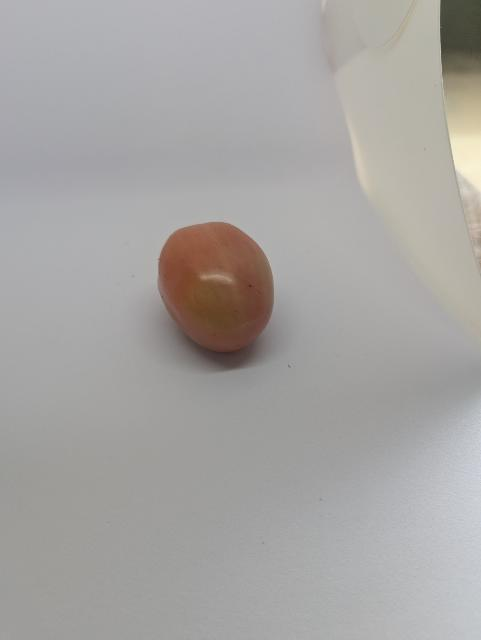turning: (139, 210, 290, 364)
